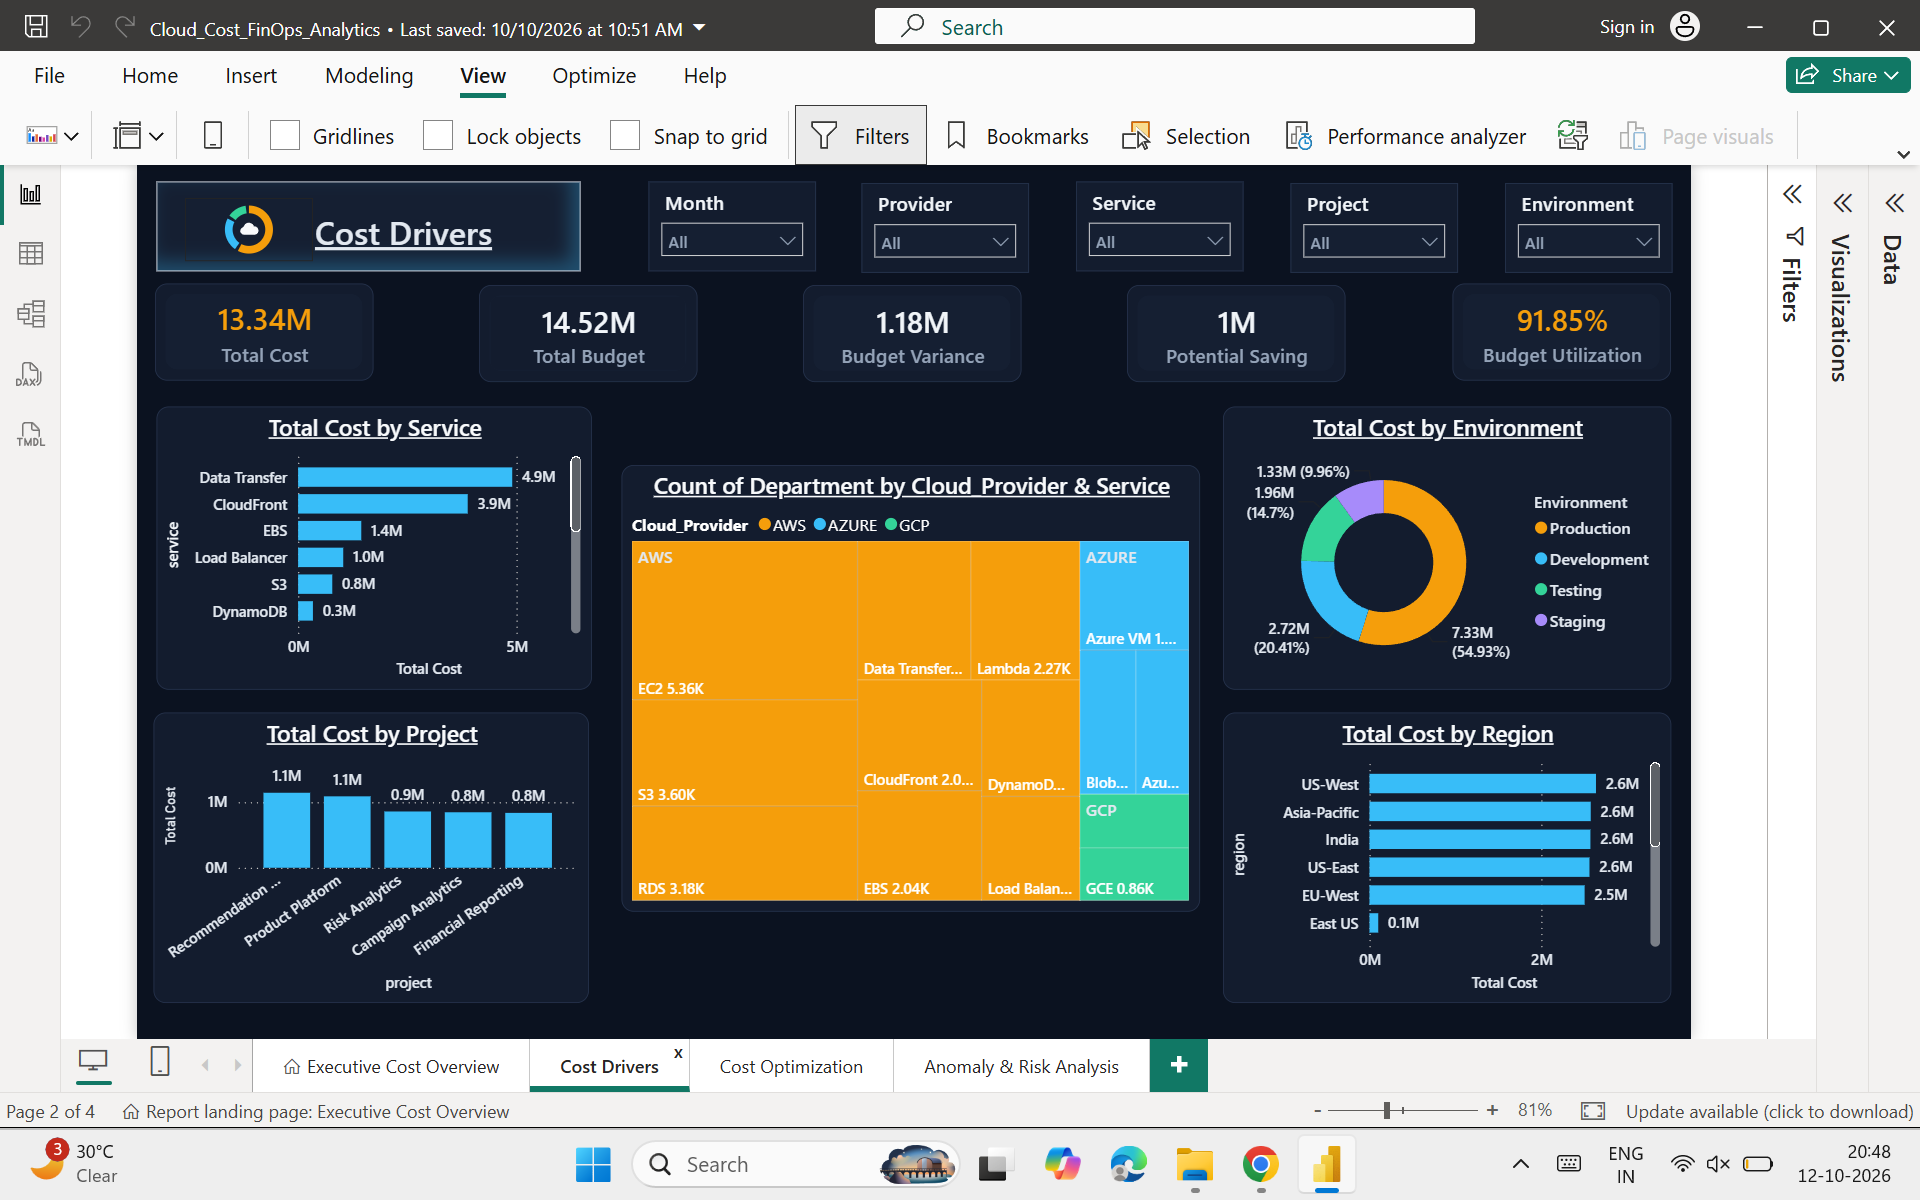

The dashboard page shown, as its layout file describes it:
{"tool":"powerbi","page":{"name":"Cost Drivers","canvas":[1280,720],"ordinal":1},"visuals":[{"type":"cardVisual","fields":{"Data":["measures (2).Total Cost"]},"box":[14.6,97.4,180.2,80],"z":0},{"type":"cardVisual","fields":{"Data":["measures (2).Total Budget"]},"box":[281.9,98.5,180,80],"z":1000},{"type":"cardVisual","fields":{"Data":["measures (2).Budget Utilization"]},"box":[1083.2,97.4,180.2,80],"z":2000},{"type":"cardVisual","fields":{"Data":["measures (2).Potential Saving"]},"box":[816.1,98.5,180,80],"z":3000},{"type":"cardVisual","fields":{"Data":["measures (2).Budget Variance"]},"box":[549,98.5,180,80],"z":4000},{"type":"textbox","box":[16.7,13.6,349,74],"z":5000},{"type":"barChart","title":"Total Cost by Service","fields":{"Y":["measures (2).Total Cost"],"Category":["cloud_cost_finops_cleaned.service"]},"box":[16.7,198.4,358.9,233.2],"z":6000},{"type":"columnChart","title":"Total Cost by Project","fields":{"Y":["measures (2).Total Cost"],"Category":["cloud_cost_finops_cleaned.project"]},"box":[13.6,451.2,358.9,239.2],"z":7000},{"type":"treemap","title":"Count of Department by Cloud_Provider & Service","fields":{"Group":["cloud_cost_finops_cleaned.cloud_provider"],"Values":["CountNonNull(cloud_cost_finops_cleaned.department)"],"Details":["cloud_cost_finops_cleaned.service"]},"box":[399.8,246.8,477,368],"z":8000},{"type":"donutChart","title":"Total Cost by Environment","fields":{"Y":["measures (2).Total Cost"],"Category":["cloud_cost_finops_cleaned.environment"]},"box":[894.9,198.4,369.5,233.2],"z":9000},{"type":"barChart","title":"Total Cost by Region","fields":{"Y":["measures (2).Total Cost"],"Category":["cloud_cost_finops_cleaned.region"]},"box":[894.9,451.2,369.5,239.2],"z":10000},{"type":"slicer","fields":{"Values":["cloud_cost_finops_cleaned.date.Variation.Date Hierarchy.Month"]},"box":[420.9,13.6,137.8,74.2],"z":11000},{"type":"slicer","fields":{"Values":["cloud_cost_finops_cleaned.service"]},"box":[773.8,13.6,137.8,74.2],"z":12000},{"type":"slicer","fields":{"Values":["cloud_cost_finops_cleaned.cloud_provider"]},"box":[597.4,15.1,137.8,74.2],"z":13000},{"type":"slicer","fields":{"Values":["cloud_cost_finops_cleaned.project"]},"box":[950.2,15.1,137.8,74.2],"z":14000},{"type":"slicer","fields":{"Values":["cloud_cost_finops_cleaned.environment"]},"box":[1126.6,15.1,137.8,74.2],"z":15000},{"type":"image","box":[39.4,27.3,105,52],"z":16000}]}

Visuals, with their boxes on the page's 1280x720 design canvas (x1, y1, x2, y2). These are canvas units, not pixel positions in the 1920x1200 screenshot, which may show the page scaled, cropped or inside an application window:
cardVisual - measures (2).Total Cost: 15,97,195,177
cardVisual - measures (2).Total Budget: 282,98,462,178
cardVisual - measures (2).Budget Utilization: 1083,97,1263,177
cardVisual - measures (2).Potential Saving: 816,98,996,178
cardVisual - measures (2).Budget Variance: 549,98,729,178
textbox: 17,14,366,88
"Total Cost by Service" barChart: 17,198,376,432
"Total Cost by Project" columnChart: 14,451,372,690
"Count of Department by Cloud_Provider & Service" treemap: 400,247,877,615
"Total Cost by Environment" donutChart: 895,198,1264,432
"Total Cost by Region" barChart: 895,451,1264,690
slicer - cloud_cost_finops_cleaned.date.Variation.Date Hierarchy.Month: 421,14,559,88
slicer - cloud_cost_finops_cleaned.service: 774,14,912,88
slicer - cloud_cost_finops_cleaned.cloud_provider: 597,15,735,89
slicer - cloud_cost_finops_cleaned.project: 950,15,1088,89
slicer - cloud_cost_finops_cleaned.environment: 1127,15,1264,89
image: 39,27,144,79
